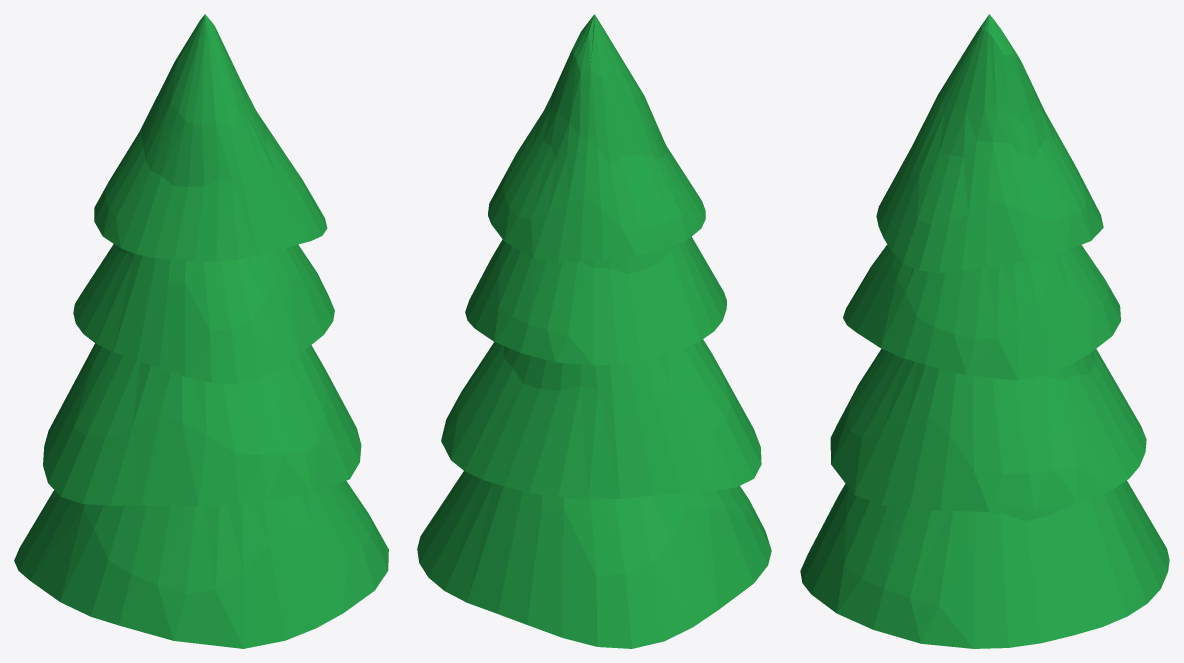
Rendered from lowtree2.fbx.
3 renders of one model, left to right at view 1: azimuth 30°, elevation 25°; view 2: azimuth 150°, elevation 25°; view 3: azimuth 270°, elevation 25°, orthographic. The views are drawn at different scales.
Parts seen in each view (by area): view 1: Plane; view 2: Plane; view 3: Plane.
Part boxes in pixels (x1,y1,x2,y2): Plane: [14, 14, 388, 648]; Plane: [417, 14, 771, 648]; Plane: [800, 14, 1169, 648].
Size of the model in its own units: 73.59 by 136 by 74.19.
